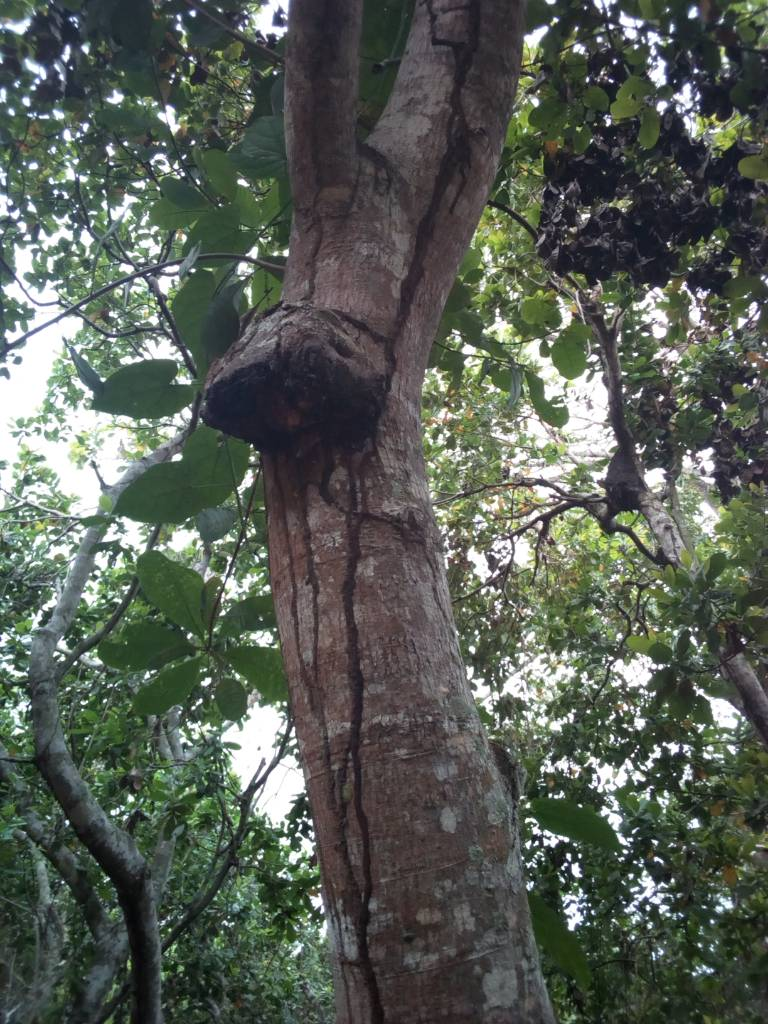Termites: (329, 532, 393, 1022)
